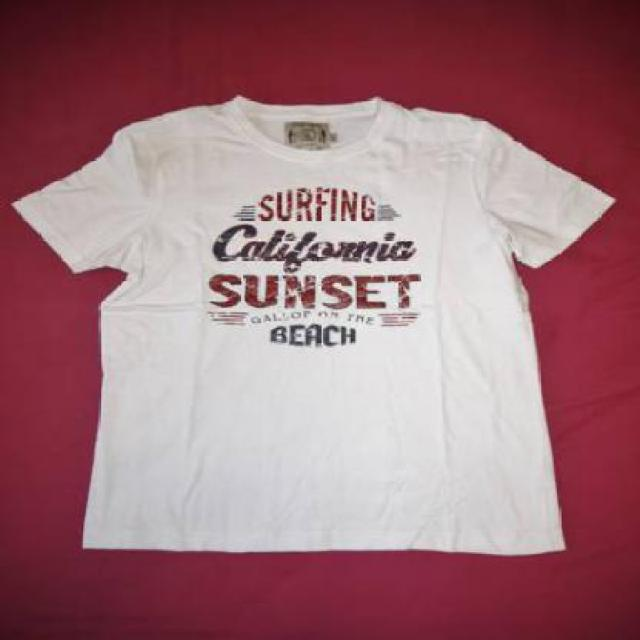shirt: (9, 90, 638, 570)
